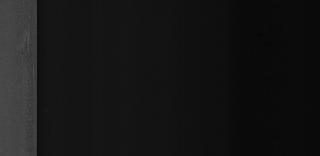silk spot: (14, 21, 32, 59)
